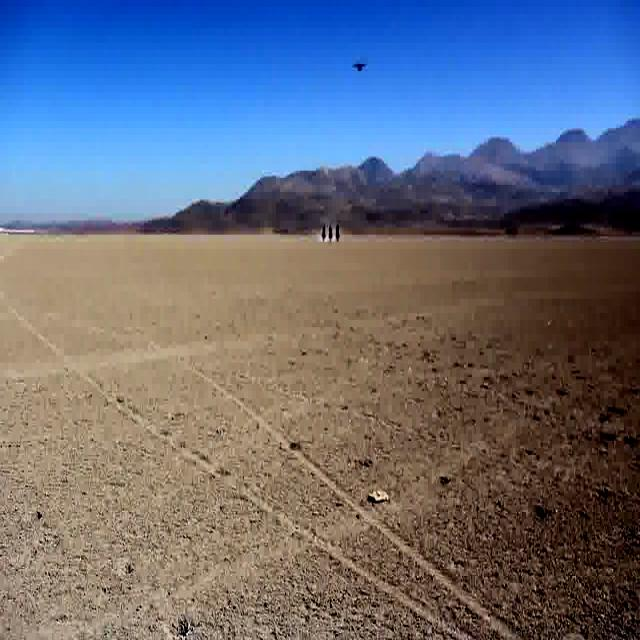drone: (354, 58, 368, 76)
